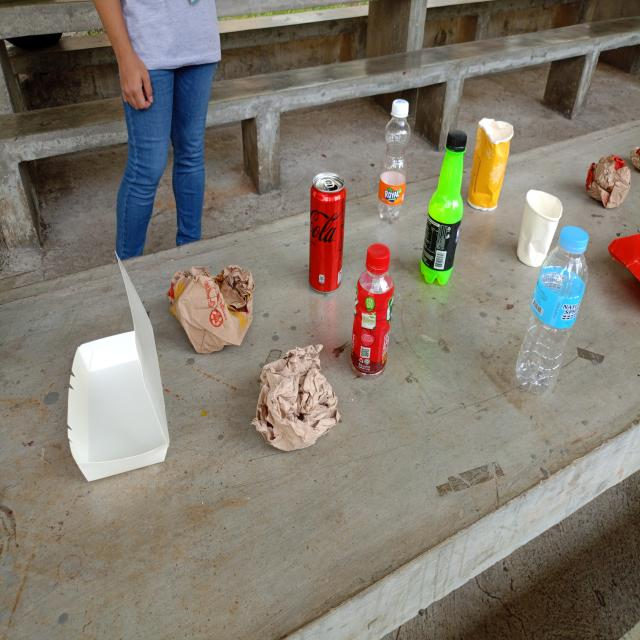Anorganik: (512, 224, 592, 398), (419, 126, 472, 295), (348, 235, 397, 382), (307, 168, 349, 297), (377, 92, 413, 224)
Organik: (63, 248, 172, 489), (250, 340, 343, 459), (166, 236, 257, 357), (465, 110, 514, 210), (514, 188, 565, 271), (582, 146, 635, 213)
